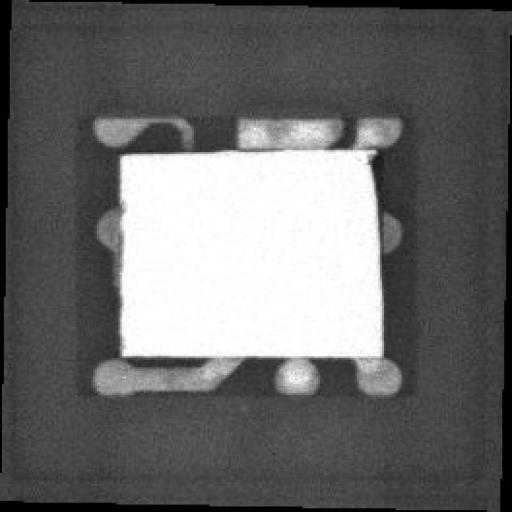DIE_BROKEN: (361, 146, 376, 196)
